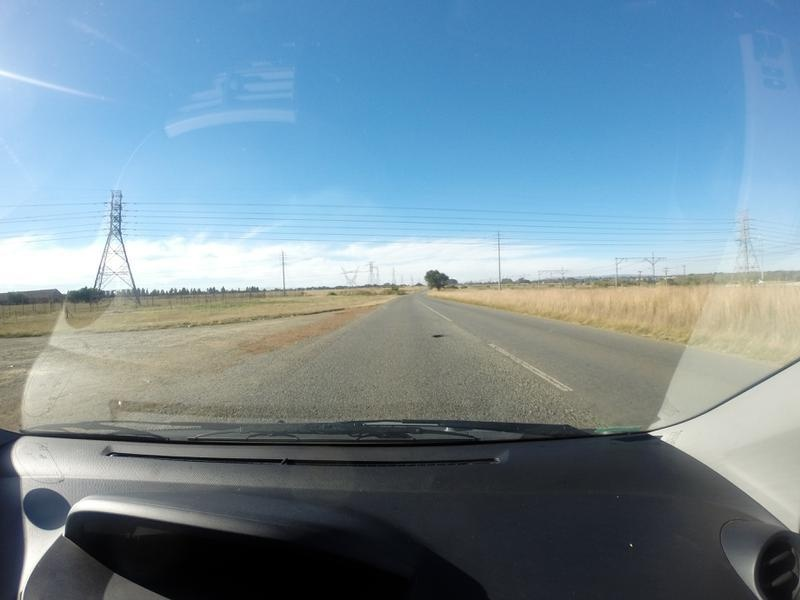pothole: (431, 330, 453, 340)
